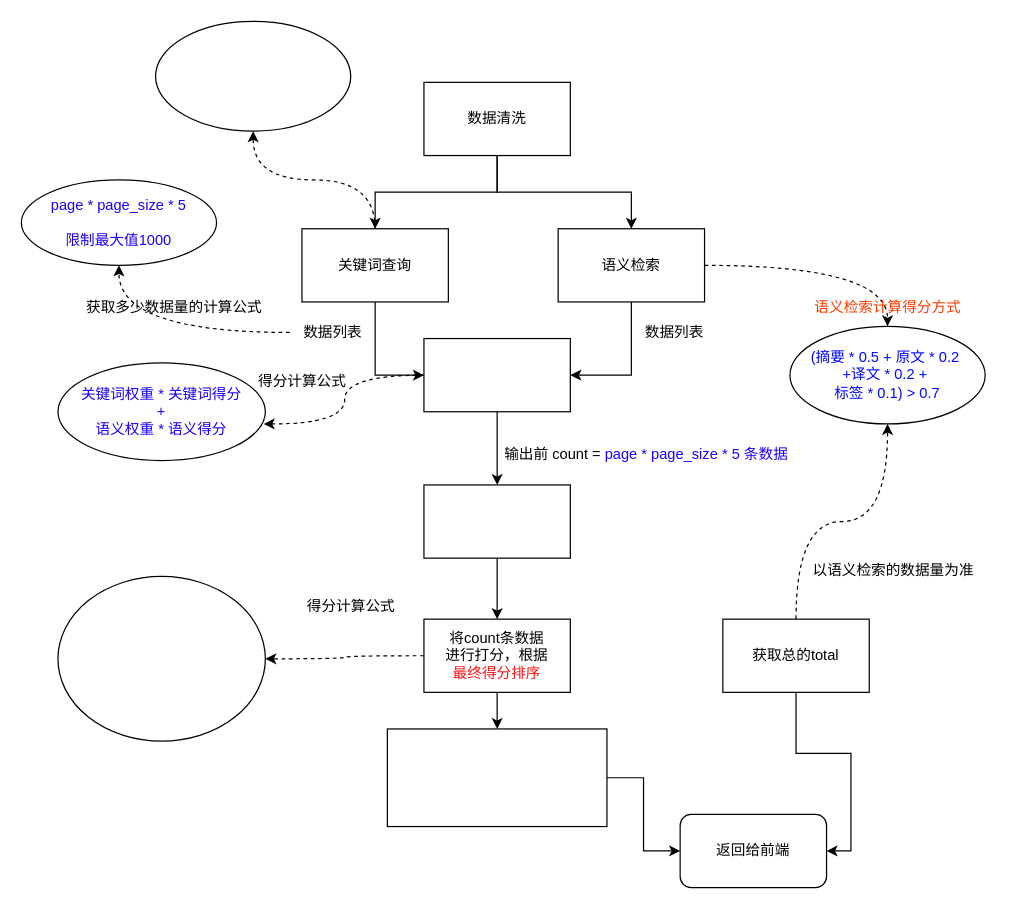
The diagram is 1019 pixels wide and 909 high, and some of its shapes have lost their labels. Each missing label, with the centre of its shape:
pg向量自带的pg_trgm 关键字查询 or like模糊查询: the point at 252,75
start = (page - 1) * pagesize 截取范围 [start , start + pagesize ]: the point at 496,777
关键词权重 * 关键词得分 + 语义权重 * 语义得分 + 重排序权重 * 模型得分: the point at 161,658
去重，计算得分 ，根据得分排序: the point at 496,374
取前20条放入 排序模型 得到模型得分: the point at 496,521
